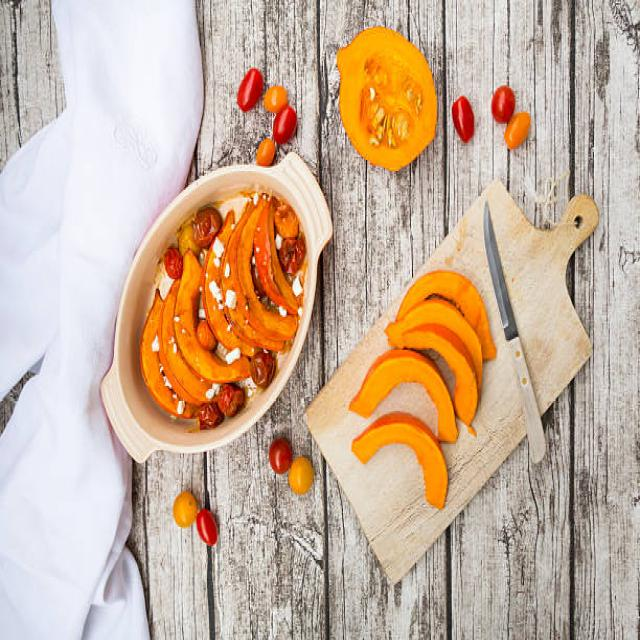pumpkin: (349, 349, 458, 442), (351, 412, 448, 509), (396, 274, 496, 360), (401, 324, 478, 425), (399, 298, 481, 387)
